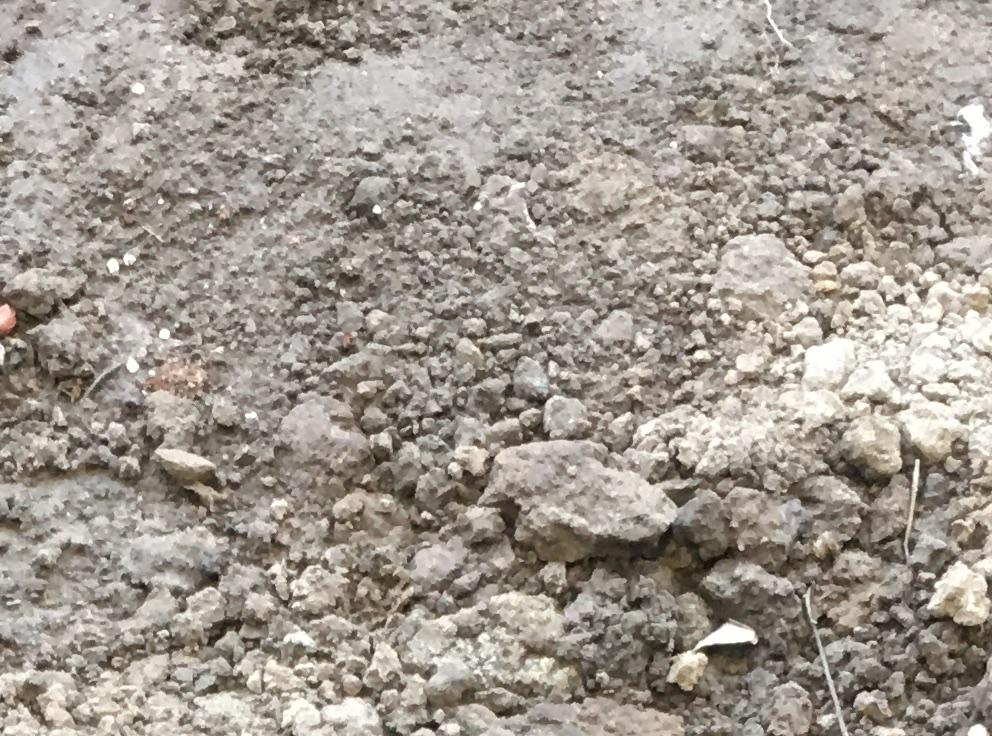block: (484, 435, 674, 566)
